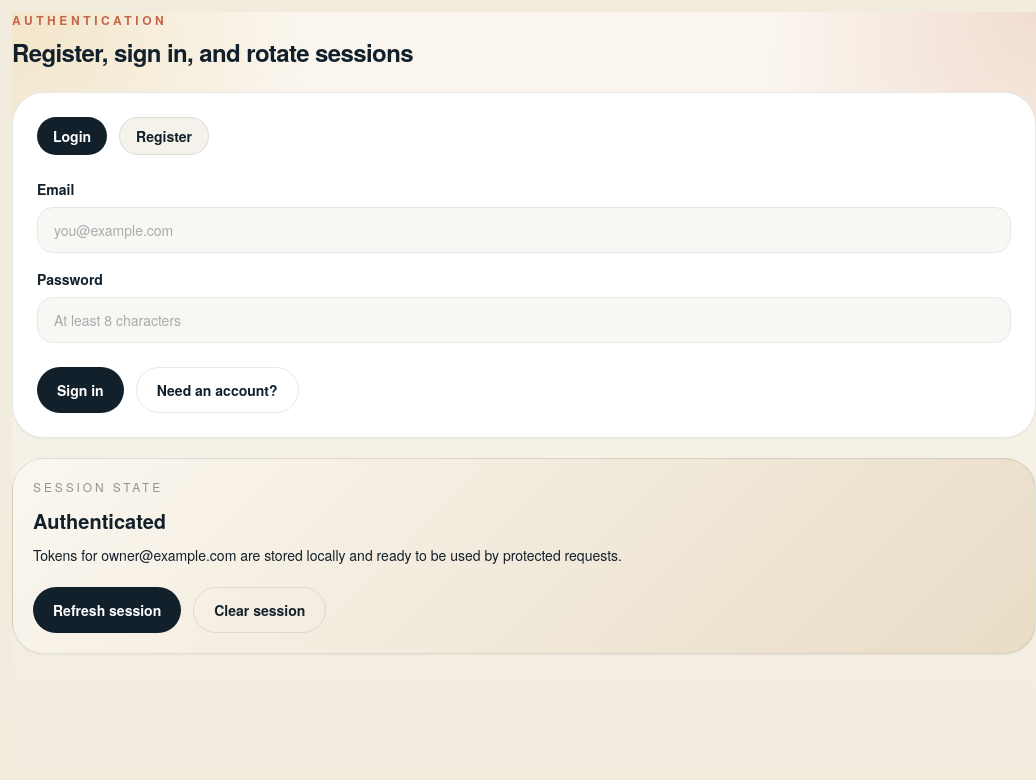
Test case: AuthPage › keeps the session when refresh fails with a non-api error
Click the button "Refresh session" at (107,610), box top-left (33, 587), bottom-right (181, 633)
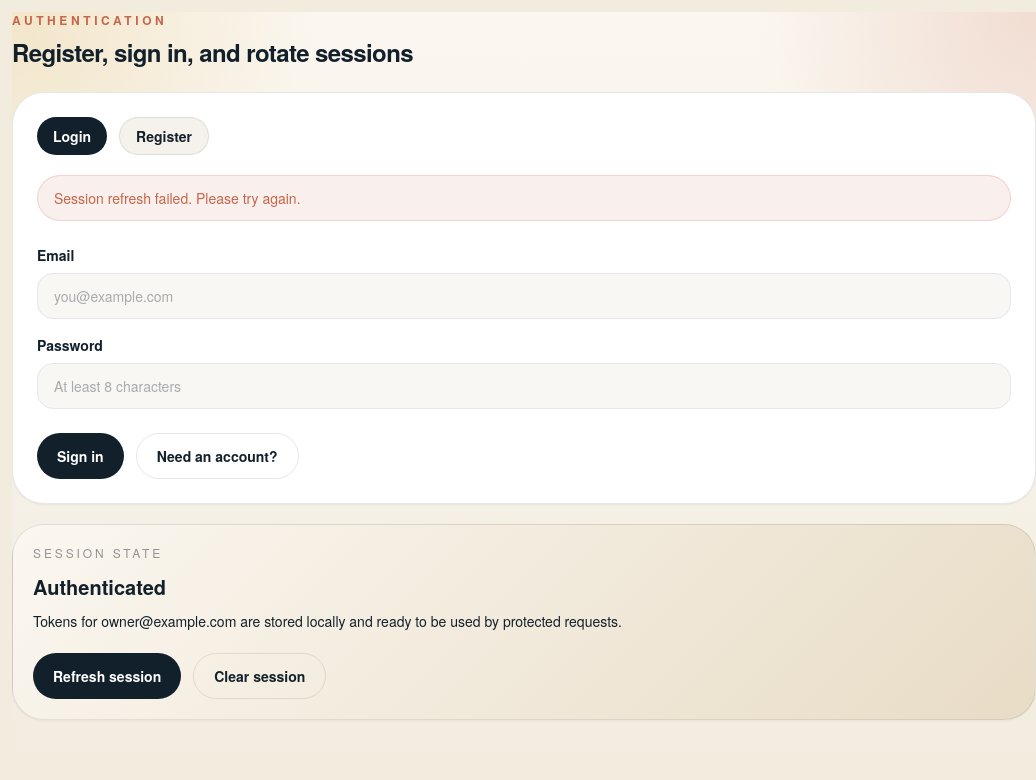
expect the text "Session refresh failed. Please try again." is shown: met, box top-left (37, 175), bottom-right (1011, 221)
